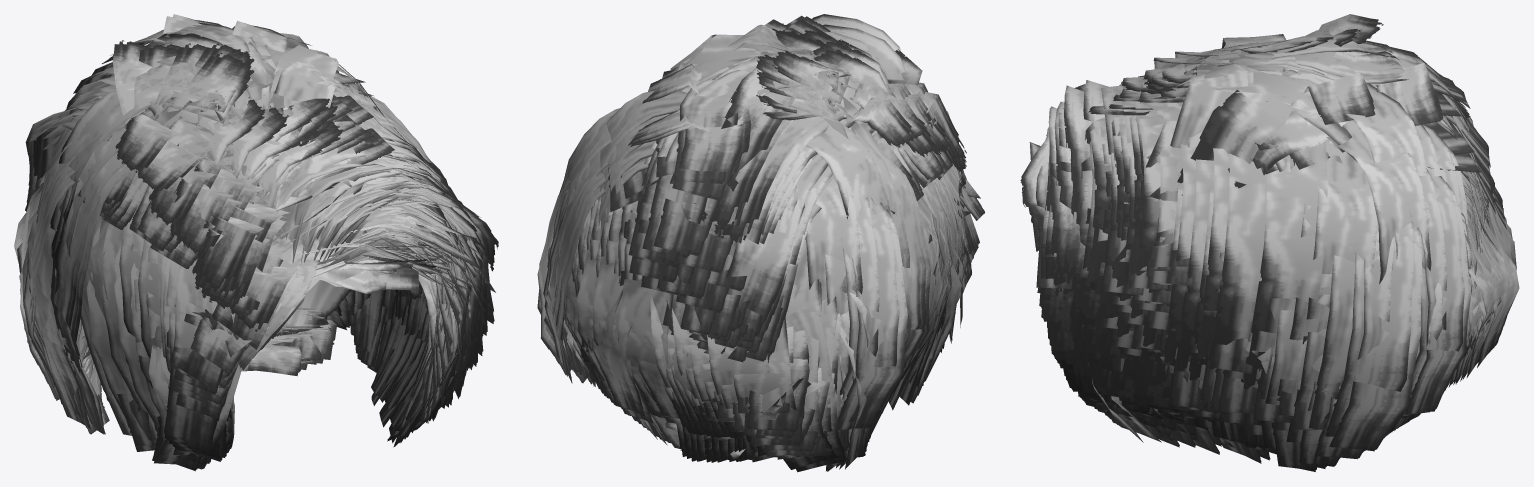
File: hair_bob02.glb
The picture shows the model from 3 angles, left to right: view 1: azimuth 30°, elevation 25°; view 2: azimuth 150°, elevation 25°; view 3: azimuth 270°, elevation 25°; orthographic projection. The views are drawn at different scales.
Visible parts, largest first — view 1: hair_bob02; view 2: hair_bob02; view 3: hair_bob02.
Boxes of the visible parts, left/top/right/bottom form: hair_bob02: left=14, top=14, right=498, bottom=471; hair_bob02: left=537, top=14, right=984, bottom=472; hair_bob02: left=1020, top=14, right=1519, bottom=471.
Bounding box in the file's own units: 0.1928 × 0.1924 × 0.2385.
1 material, 1 textured.
